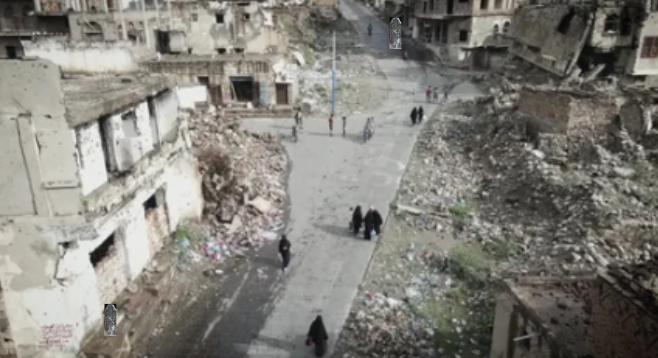HVT1: (104, 304, 116, 336), (389, 18, 401, 48)
